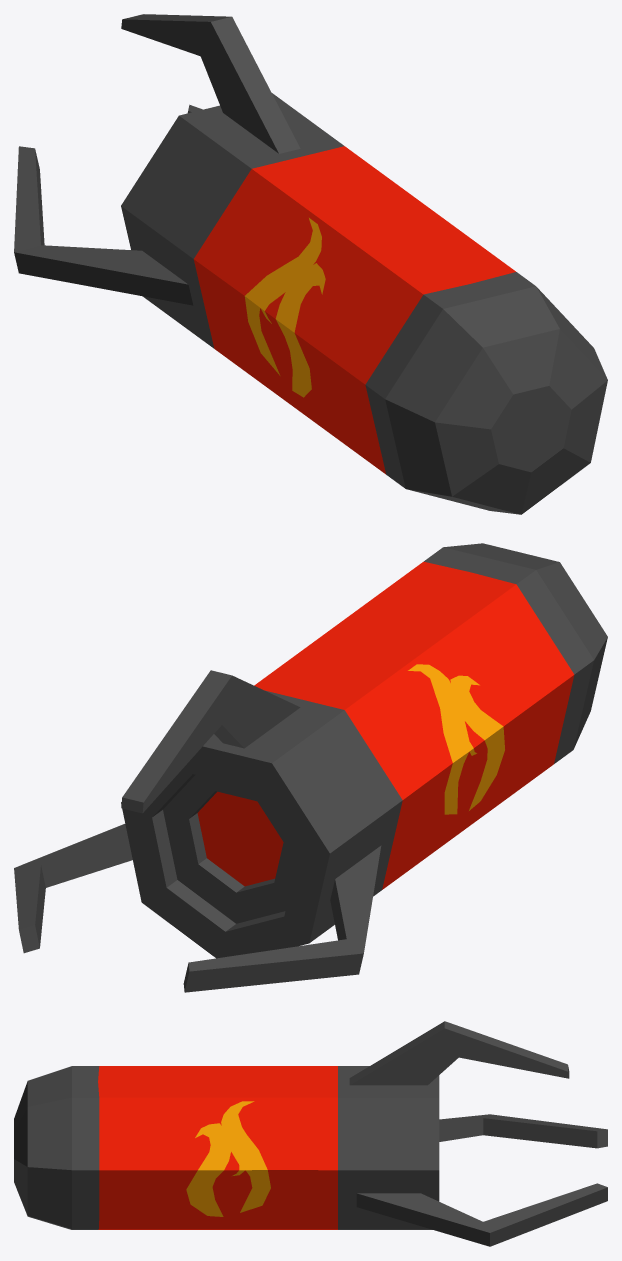
File: FireBomb.fbx
The picture shows the model from 3 angles, top to bottom: view 1: azimuth 30°, elevation 25°; view 2: azimuth 150°, elevation 25°; view 3: azimuth 270°, elevation 25°; orthographic projection. The views are drawn at different scales.
Visible parts, largest first — view 1: Cube; view 2: Cube; view 3: Cube.
Boxes of the visible parts, x1=… form: Cube: x1=14, y1=14, x2=607, y2=514; Cube: x1=14, y1=543, x2=607, y2=992; Cube: x1=14, y1=1021, x2=607, y2=1246.
Size of the model in its own units: 109 by 87.91 by 230.
